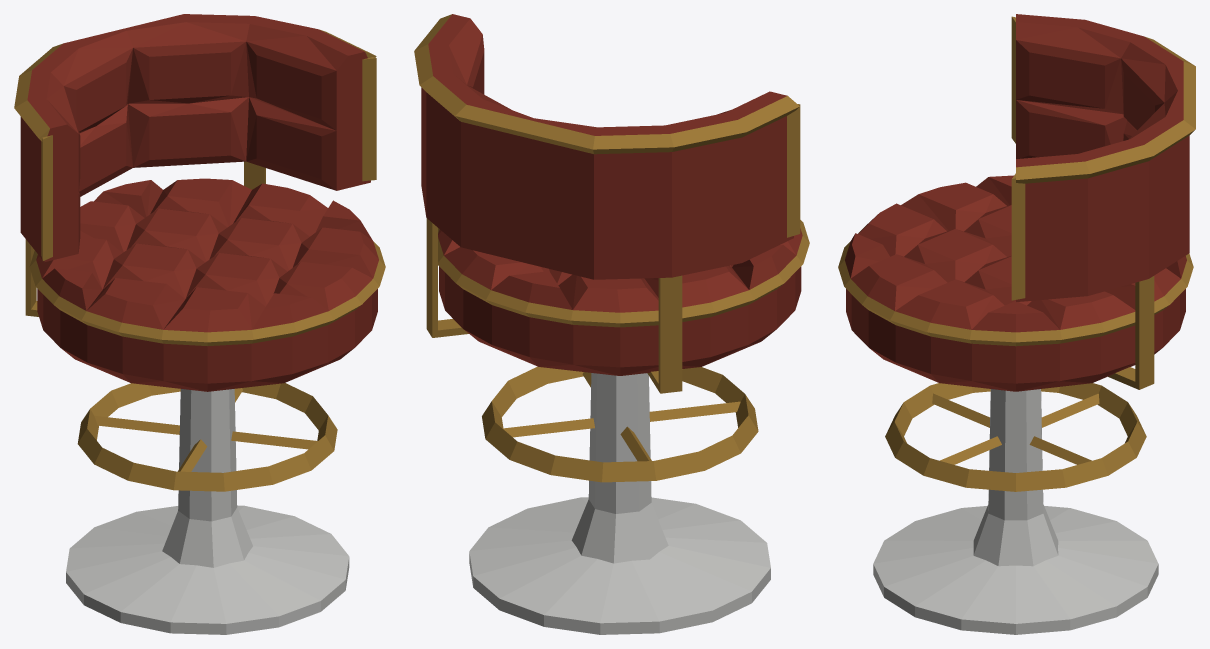
The model's file is slot-machine-stool-c8af24.glb.
3 views of the same model, side by side, from view 1: azimuth 30°, elevation 25°; view 2: azimuth 150°, elevation 25°; view 3: azimuth 270°, elevation 25° (orthographic). The views are drawn at different scales.
Parts seen in each view (by area): view 1: seat, pedestal; view 2: seat, pedestal; view 3: seat, pedestal.
Part boxes in pixels (<box>): seat: <box>14,14,385,391</box>; pedestal: <box>66,383,349,634</box>; seat: <box>414,14,809,393</box>; pedestal: <box>469,366,770,634</box>; seat: <box>838,14,1195,391</box>; pedestal: <box>873,383,1158,634</box>.
Bounding box in the file's own units: 0.642 × 0.88 × 0.5896.
